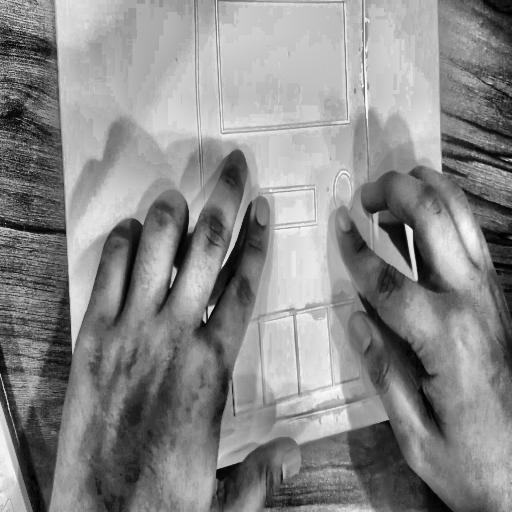bottom_left: (83, 476, 90, 488)
bottom_right: (443, 399, 452, 414)
door: (188, 0, 389, 450)
